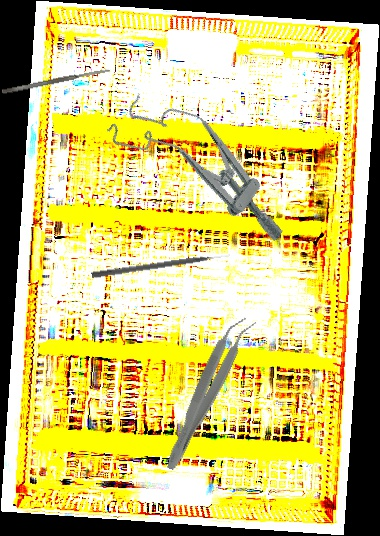Pusher: (91, 252, 231, 280)
Spatula Surgical: (1, 67, 111, 95)
Speculum: (103, 77, 309, 254)
Tissue Forceps: (159, 310, 258, 477)
